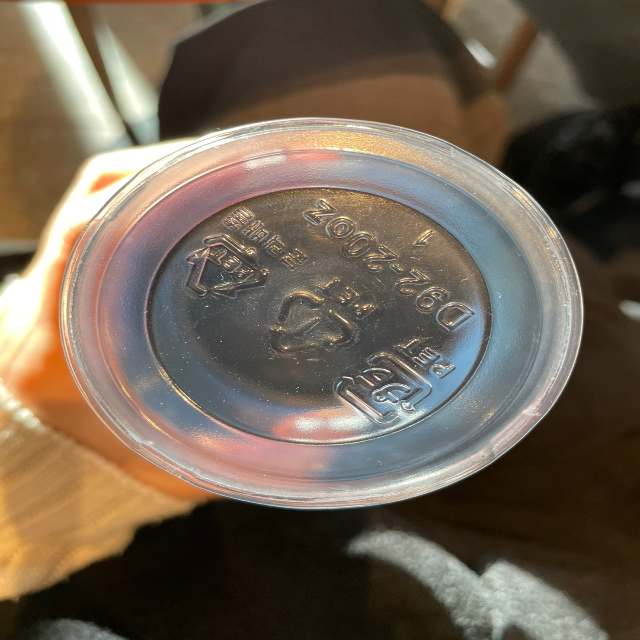pet: (185, 199, 310, 304), (327, 332, 460, 427), (267, 275, 379, 363)
